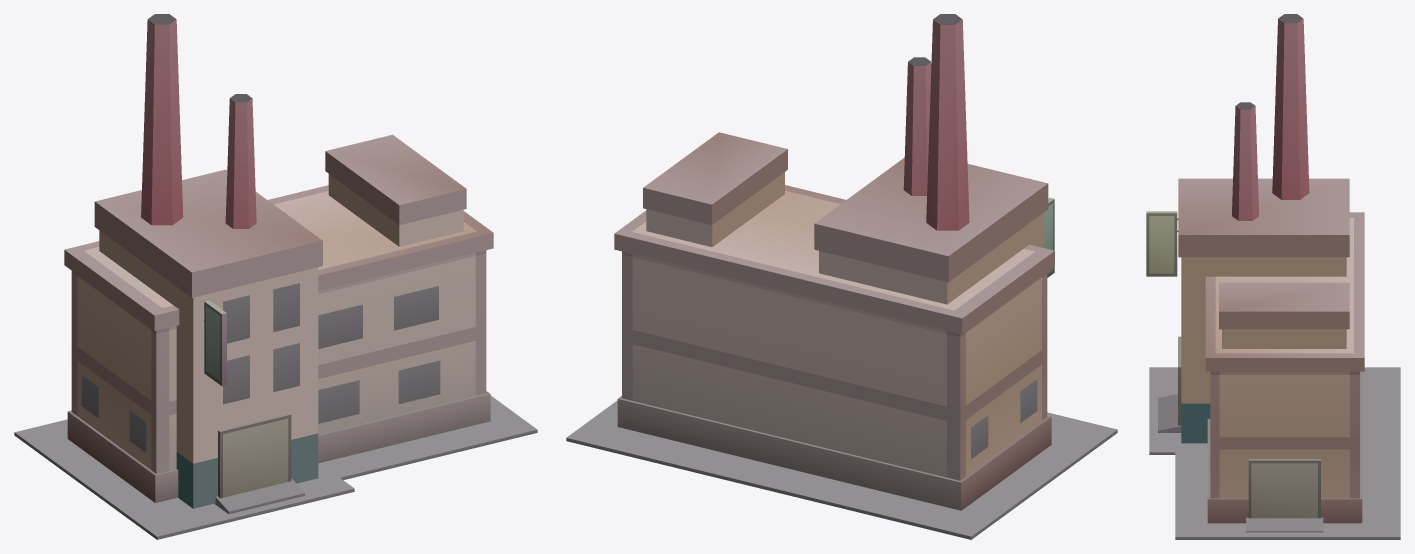
Rendered from factory.glb.
3 renders of one model, left to right at view 1: azimuth 30°, elevation 25°; view 2: azimuth 150°, elevation 25°; view 3: azimuth 270°, elevation 25°, orthographic. The views are drawn at different scales.
Parts seen in each view (by area): view 1: factory; view 2: factory; view 3: factory.
Boxes of the visible parts, bbox=[...] form: factory: bbox=[14, 14, 537, 539]; factory: bbox=[566, 14, 1117, 539]; factory: bbox=[1146, 14, 1400, 539].
Size of the model in its own units: 3.75 by 4 by 2.38.
